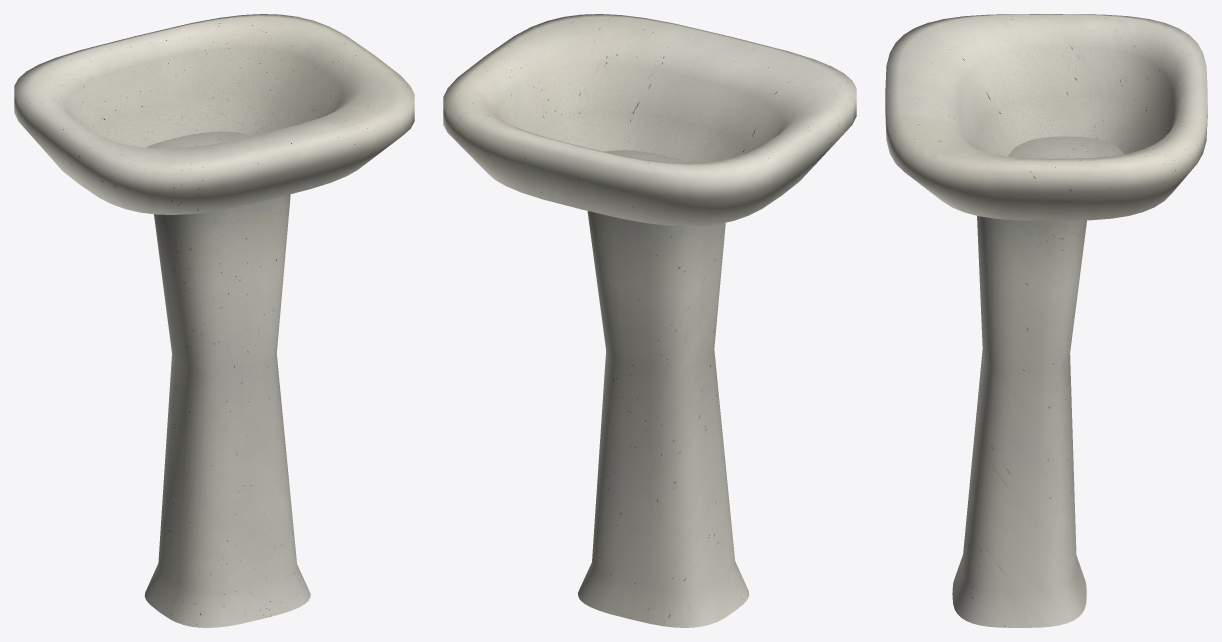
File: sink_pedestal_web.glb
The picture shows the model from 3 angles, left to right: view 1: azimuth 30°, elevation 25°; view 2: azimuth 150°, elevation 25°; view 3: azimuth 270°, elevation 25°; orthographic projection. The views are drawn at different scales.
Parts seen in each view (by area): view 1: SinkPedestal_Body; view 2: SinkPedestal_Body; view 3: SinkPedestal_Body.
Boxes of the visible parts, x1,y1,x2,y2 form: SinkPedestal_Body: (14, 14, 414, 627); SinkPedestal_Body: (443, 14, 856, 627); SinkPedestal_Body: (885, 14, 1207, 627).
Bounding box in the file's own units: 0.56 × 0.83 × 0.48.
Materials: 2 (2 with a texture image).
